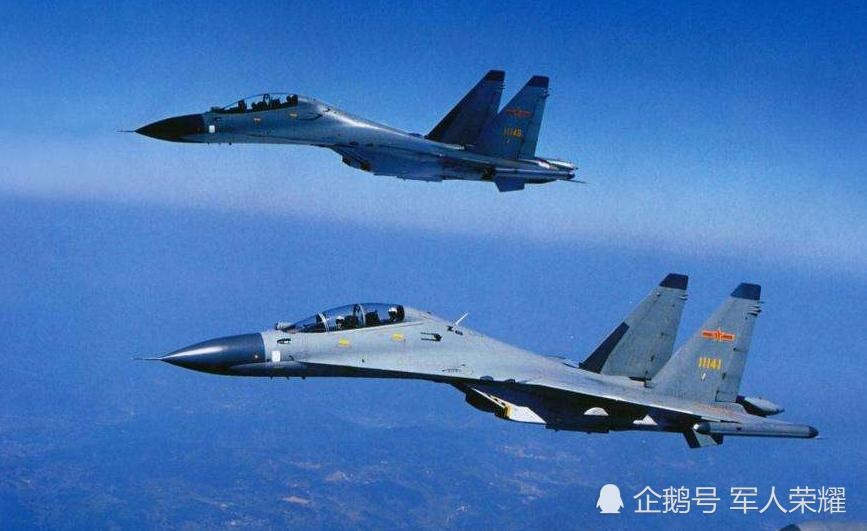airplane: (128, 271, 822, 452), (113, 66, 588, 194)
